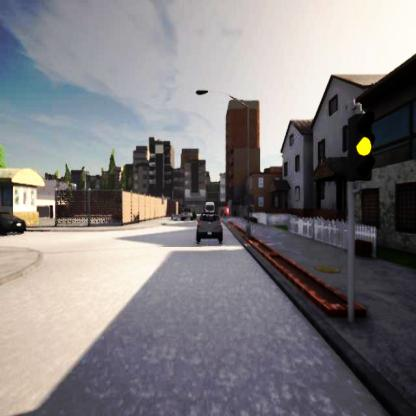vehicle: (194, 213, 224, 241), (0, 212, 25, 235)
